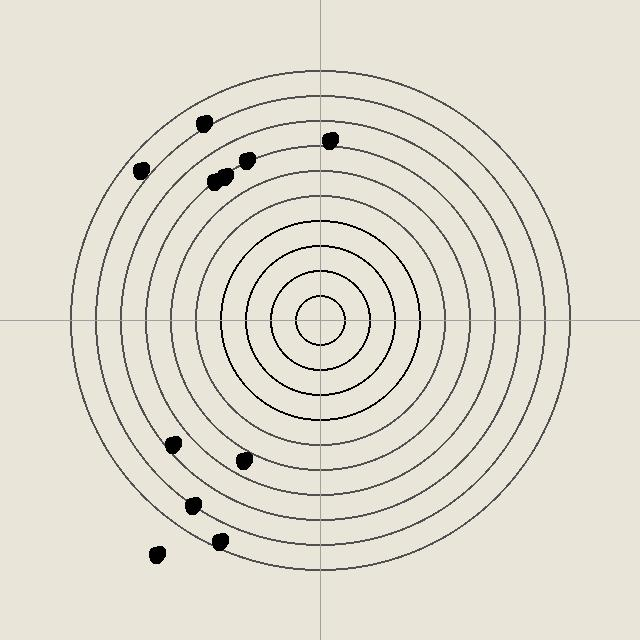random_scatter: (319, 130, 339, 150), (146, 544, 166, 564), (162, 434, 182, 454), (233, 450, 253, 470), (204, 171, 224, 191), (130, 160, 150, 180), (193, 113, 213, 133), (236, 150, 256, 170), (182, 495, 202, 515), (214, 166, 234, 186), (209, 531, 229, 551)
